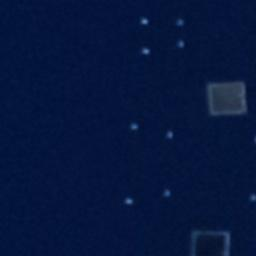square_cover: (202, 77, 249, 119)
square_solid: (187, 226, 233, 256)
